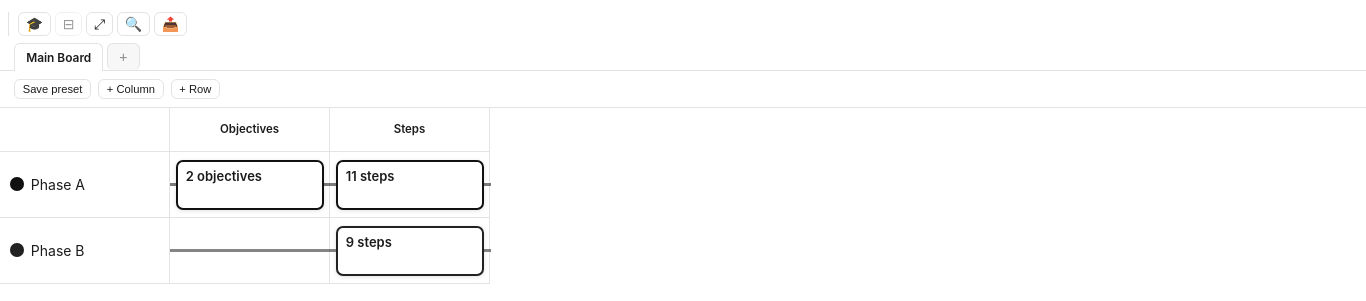
Test: revision mode on the board › restores every title when revision mode is switched off
Expected: the text "2 objectives" is shown, x1=186 y1=168 x2=262 y2=184
Click the button titled "Revision mode — hide card titles until clicked" at (35, 24), box x1=18 y1=12 x2=51 y2=36
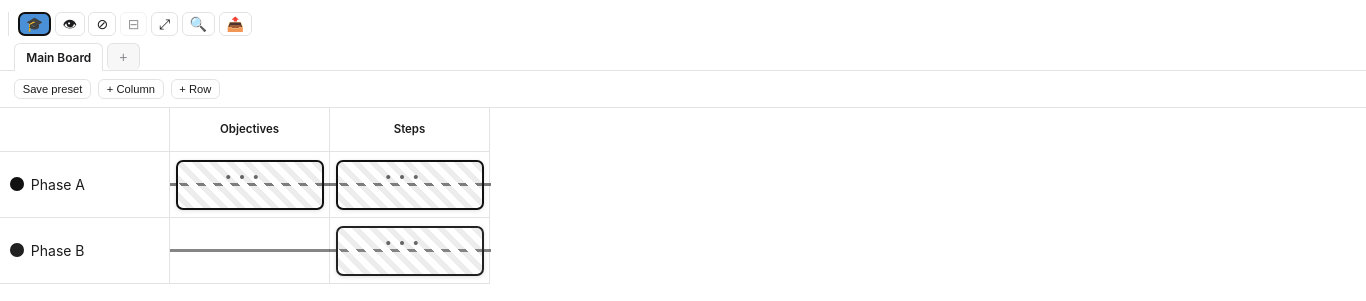
Click the button titled "Leave revision mode" at (35, 24), box x1=18 y1=12 x2=51 y2=36
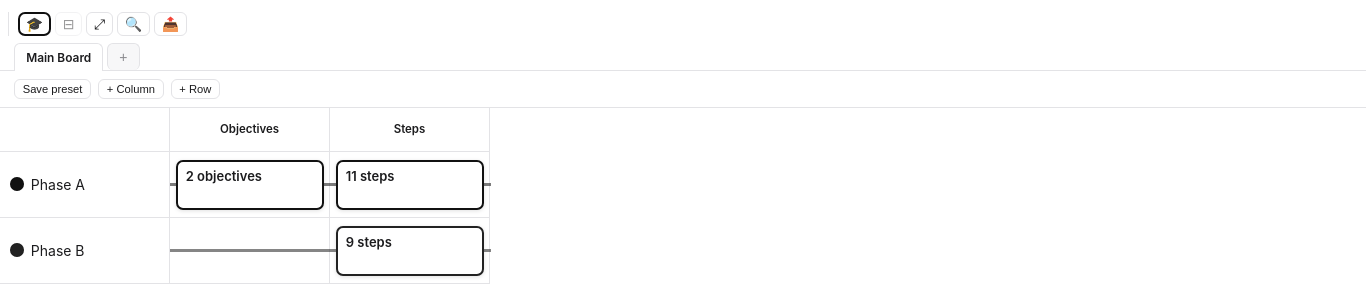
Expected: the text "2 objectives" is shown, x1=186 y1=168 x2=262 y2=184
